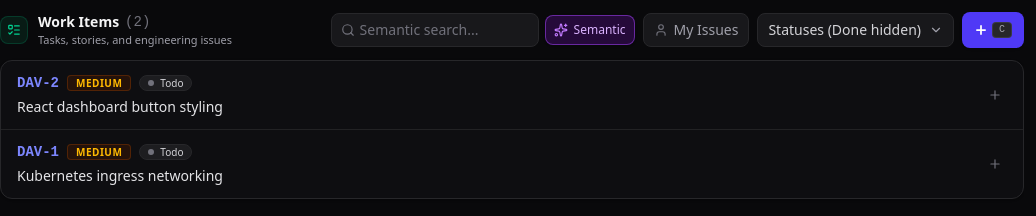
Test: WorkItemList - Sorting and Multi-Select Status Filter › supports toggling semantic search mode and filtering by keyword
Toggle to keyword
Click the button with test id "search-mode-toggle".
click(590, 30)  # box [545,15,634,45]
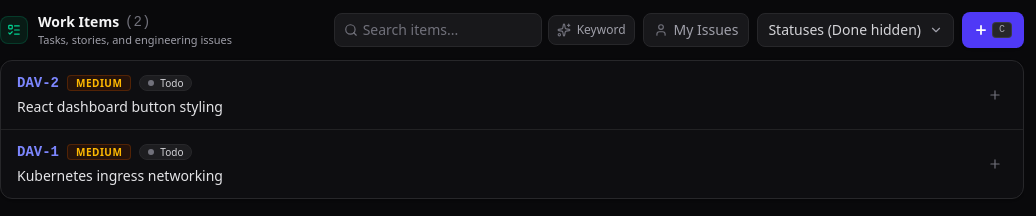
Expected: the button with test id "search-mode-toggle" reads "Keyword", [548,15,635,45]
Filter using keyword
Type "ingress" into the field with placeholder "Search items...".
click(438, 30); type("ingress")  # box [334,13,542,47]
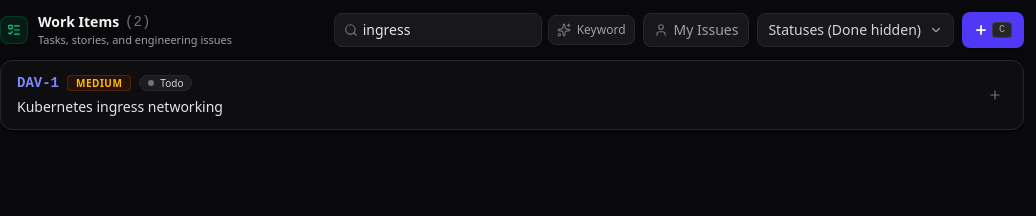
Expected: the element with test id "work-item-DAV-1" is shown, [1,61,1023,129]
Expected: the element with test id "work-item-DAV-2" is gone
